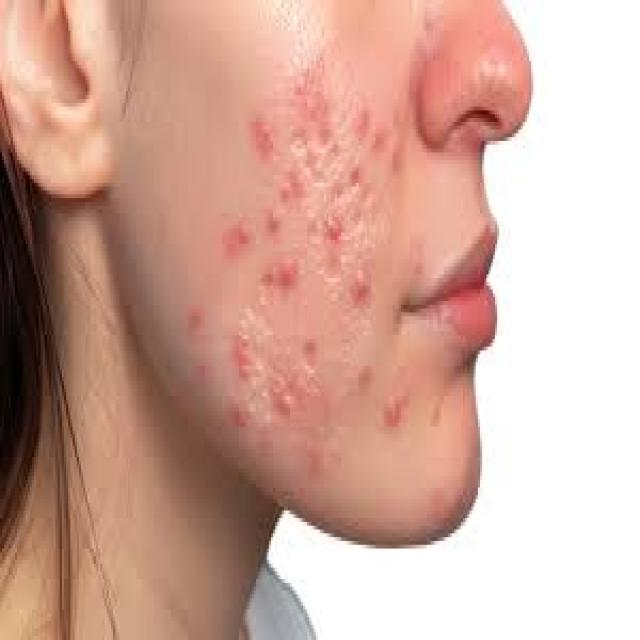Acne: (229, 50, 403, 462)
